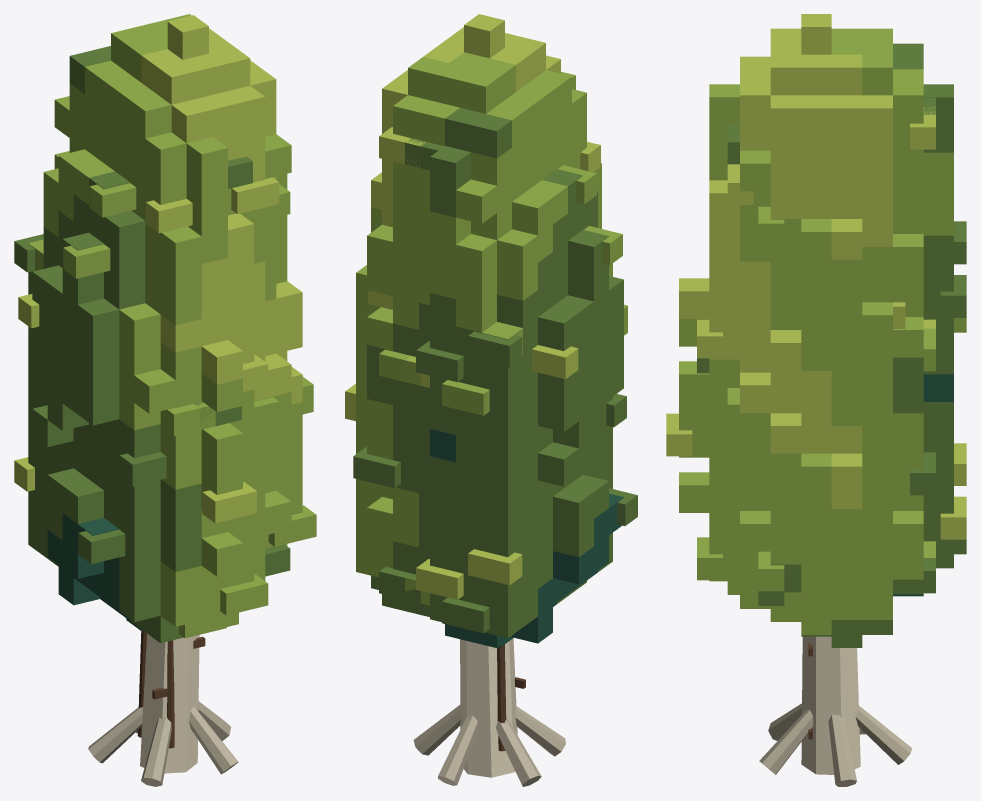
File: tree_poplar.glb
The picture shows the model from 3 angles, left to right: view 1: azimuth 30°, elevation 25°; view 2: azimuth 150°, elevation 25°; view 3: azimuth 270°, elevation 25°; orthographic projection.
Visible parts, largest first — view 1: canopy__tree_leaf_light.027, canopy__tree_leaf_mid.027, canopy__tree_leaf_sun.027, body__cream.006, body__stone2.004, canopy__tree_leaf_shadow.027, body__wood_dark.035; view 2: canopy__tree_leaf_mid.027, canopy__tree_leaf_light.027, canopy__tree_leaf_sun.027, body__cream.006, canopy__tree_leaf_shadow.027, body__stone2.004, body__wood_dark.035; view 3: canopy__tree_leaf_light.027, canopy__tree_leaf_sun.027, canopy__tree_leaf_mid.027, body__cream.006, body__stone2.004, canopy__tree_leaf_shadow.027.
Part boxes in pixels (x1,y1,x2,y2): canopy__tree_leaf_light.027: [28, 14, 316, 638]; canopy__tree_leaf_mid.027: [14, 46, 302, 643]; canopy__tree_leaf_sun.027: [14, 15, 302, 523]; body__cream.006: [140, 633, 199, 773]; body__stone2.004: [88, 701, 238, 786]; canopy__tree_leaf_shadow.027: [47, 513, 142, 630]; body__wood_dark.035: [137, 630, 205, 748]; canopy__tree_leaf_mid.027: [353, 107, 637, 638]; canopy__tree_leaf_light.027: [356, 52, 627, 605]; canopy__tree_leaf_sun.027: [345, 14, 600, 599]; body__cream.006: [460, 638, 517, 777]; canopy__tree_leaf_shadow.027: [430, 429, 623, 647]; body__stone2.004: [413, 705, 565, 786]; body__wood_dark.035: [497, 644, 525, 751]; canopy__tree_leaf_light.027: [679, 28, 966, 634]; canopy__tree_leaf_sun.027: [666, 14, 966, 539]; canopy__tree_leaf_mid.027: [697, 43, 966, 647]; body__cream.006: [801, 636, 860, 774]; body__stone2.004: [759, 703, 912, 786]; canopy__tree_leaf_shadow.027: [893, 374, 953, 596].
Bounding box in the file's own units: 1.49 × 4.33 × 1.57.
